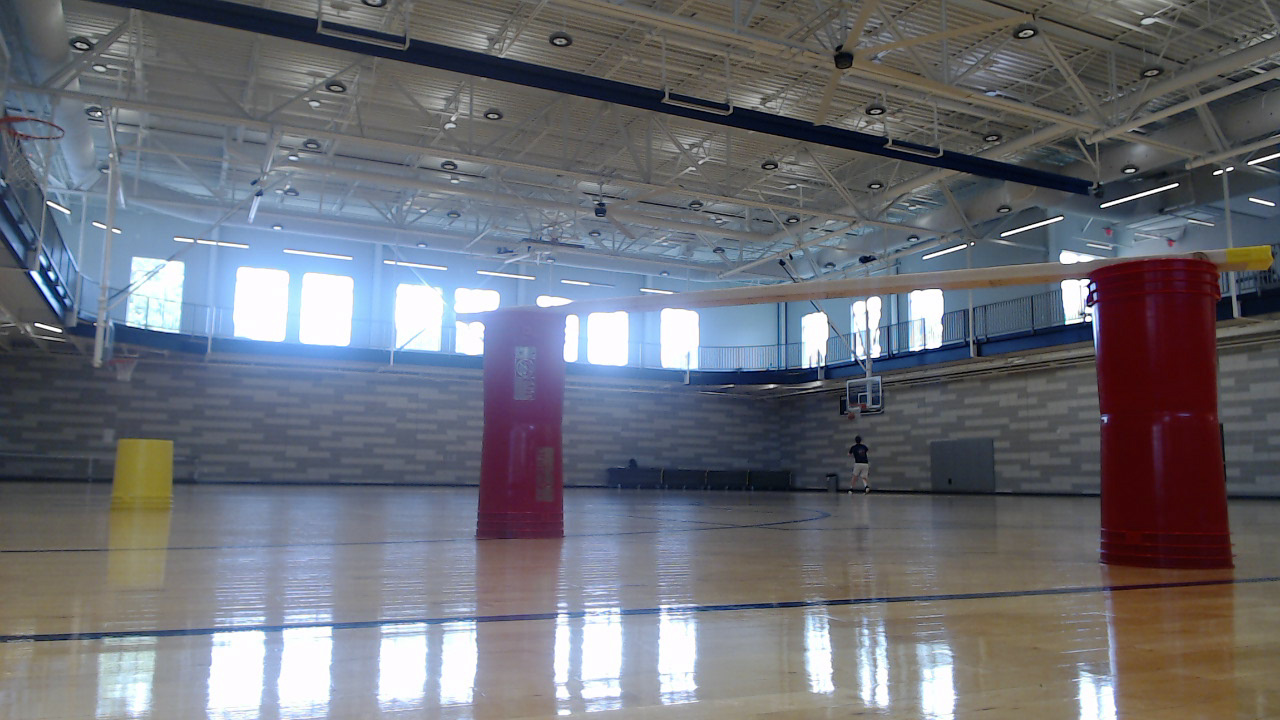red_bucket_arch: (470, 252, 1247, 580)
yellow_bucket: (106, 438, 182, 522)
